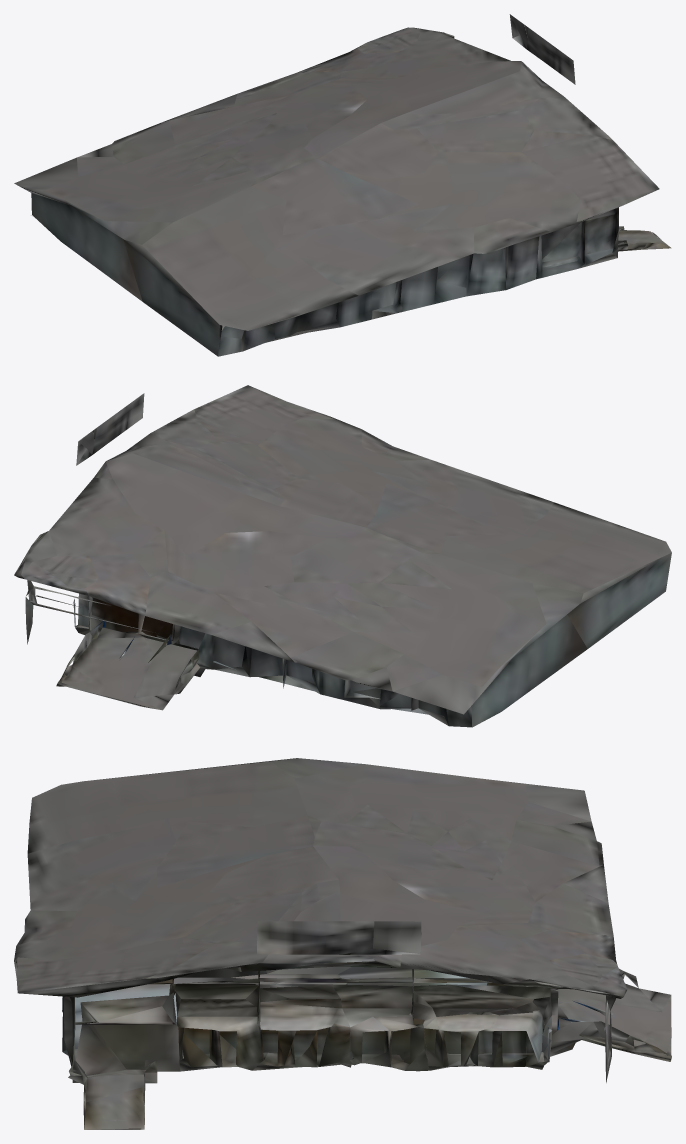
Rendered from gudang_lod2.glb.
3 views of the same model, one above another, from view 1: azimuth 30°, elevation 25°; view 2: azimuth 150°, elevation 25°; view 3: azimuth 270°, elevation 25° (orthographic). The views are drawn at different scales.
Visible parts, largest first — view 1: tripo_node_2289751c; view 2: tripo_node_2289751c; view 3: tripo_node_2289751c.
Boxes of the visible parts, left/top/right/bottom form: tripo_node_2289751c: left=14, top=14, right=671, bottom=356; tripo_node_2289751c: left=14, top=385, right=671, bottom=727; tripo_node_2289751c: left=14, top=758, right=671, bottom=1129.
Bounding box in the file's own units: 99.97 × 30.07 × 94.92.
1 material, 1 textured.
